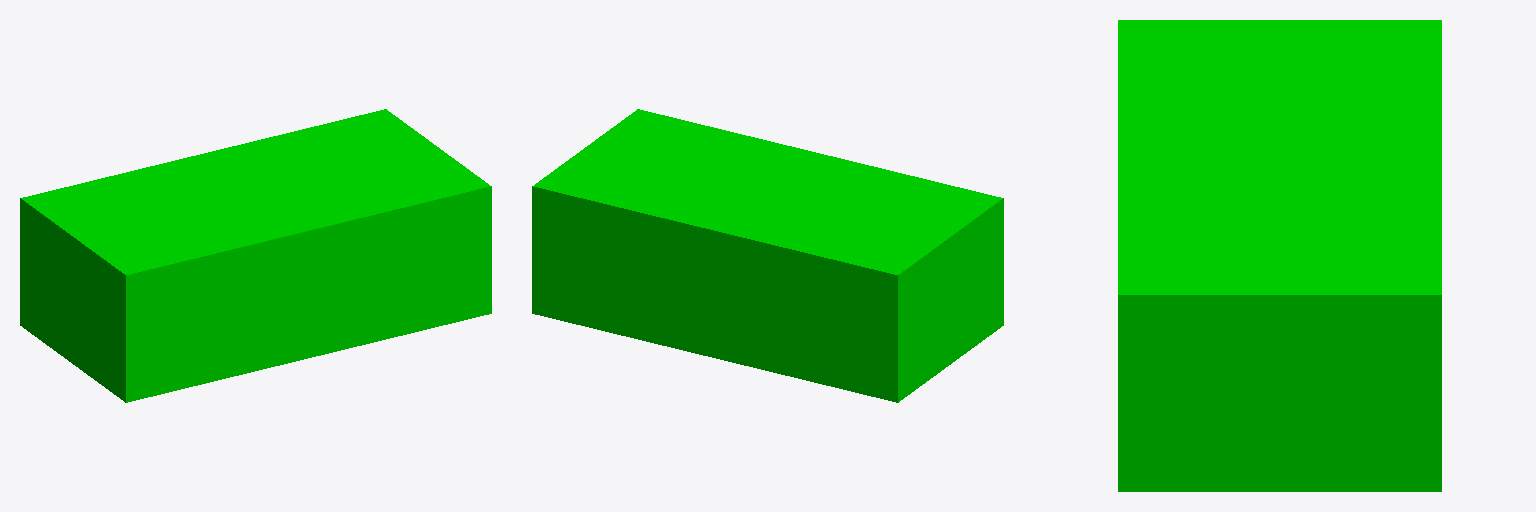
The robot description file, URDF, robot "goal":
<?xml version="1.0"?> 
<robot name="goal">
    <!-- Colors --> 
    <material name="green"> 
        <color rgba="0.0 0.9 0.0 1"/>
    </material>


    <!-- Base Frame of Goal --> 
    <link name="base_link">
        <visual> 
            <geometry> 
                <box size="0.3 0.15 0.1"/>
            </geometry>
            <material name="green"/>
        </visual>
        <collision>
            <geometry>
                <box size="0.3 0.15 0.1"/>
            </geometry>
      </collision>
    </link> 
    
</robot>

--- Facts derived from the render (not from the file) ---
The picture shows the robot from 3 angles, left to right: view 1: azimuth 30°, elevation 25°; view 2: azimuth 150°, elevation 25°; view 3: azimuth 270°, elevation 25°; orthographic projection.
Model goal with 1 links and 0 joints (none), rooted at base_link, posed every joint at zero.
Links seen in each view (by area): view 1: base_link; view 2: base_link; view 3: base_link.
Link boxes in pixels (<box>): base_link: <box>20,109,491,402</box>; base_link: <box>532,109,1003,402</box>; base_link: <box>1118,20,1441,491</box>.
Bounding box of the posed robot: 0.3 × 0.15 × 0.1 m (x, y, z).
Geometry: primitives only (box / cylinder / sphere), no mesh files.